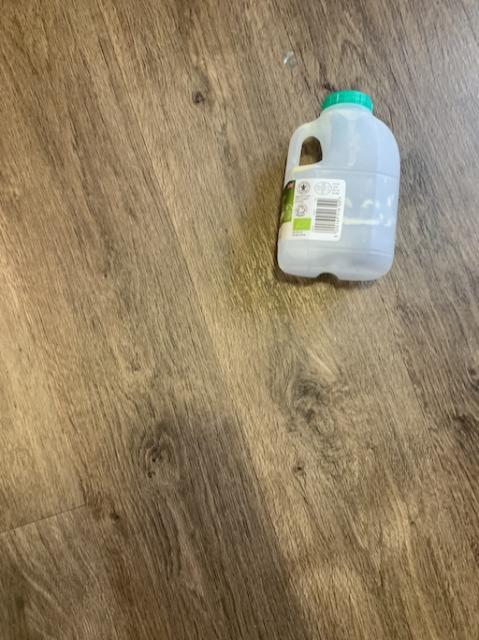plastic: (277, 90, 399, 279)
